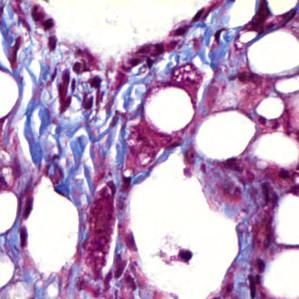steatosis: (140, 86, 199, 130)
